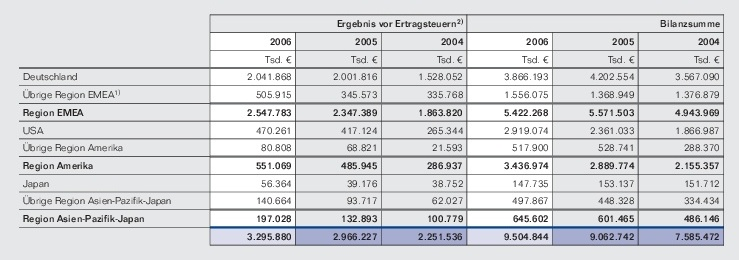table: (0, 0, 739, 260)
